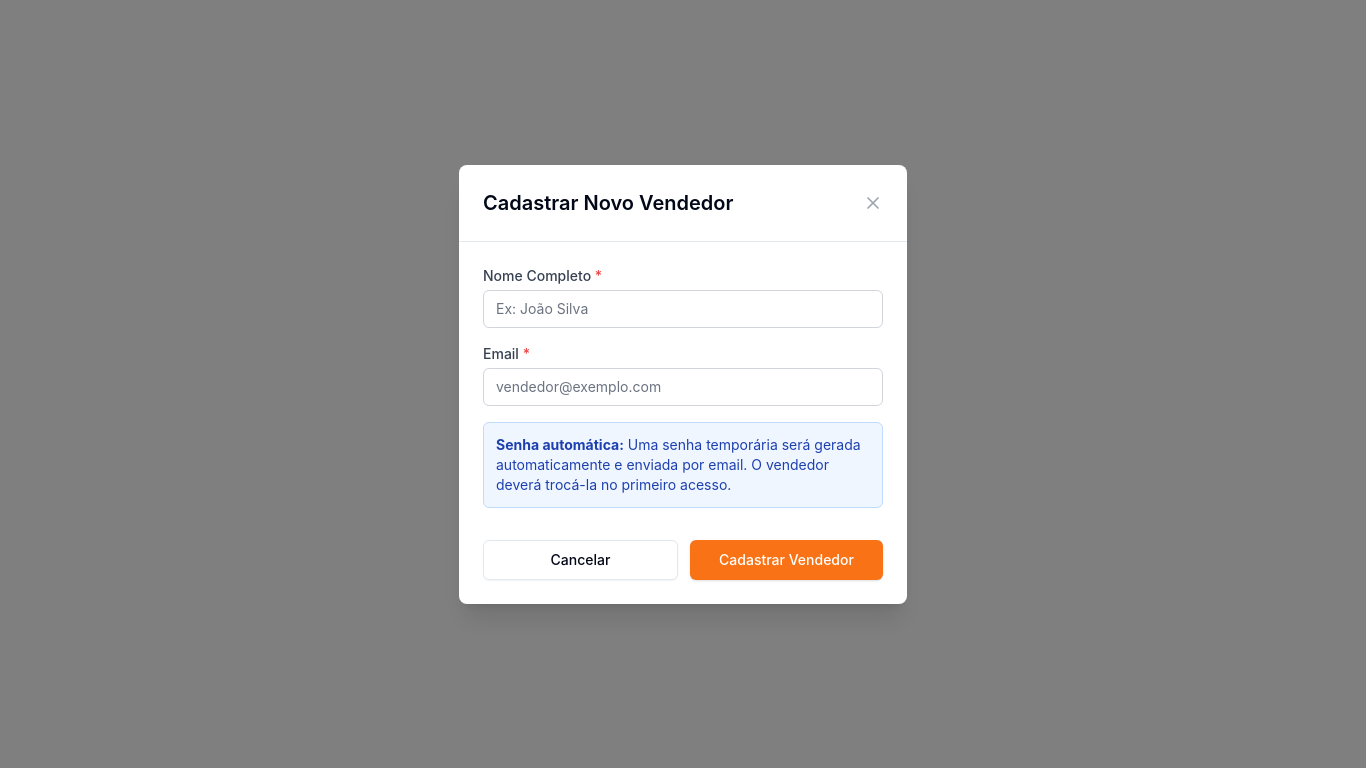
Test case: VendedorForm › deve exibir erro quando email não é fornecido em modo de cadastro
Type "João Silva" into the field labelled "Nome Completo *" at (683, 308), box [483,290,883,328]
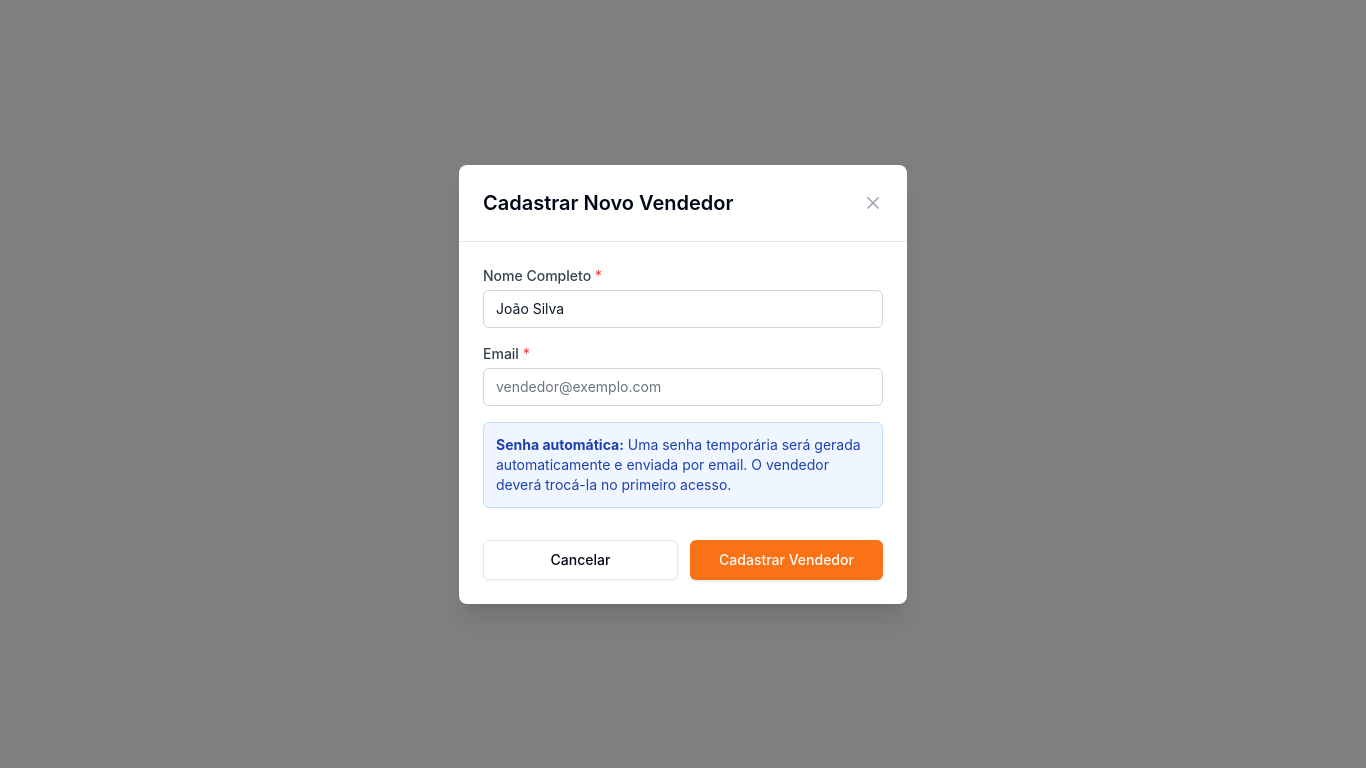
Submit the form named "Cadastrar Vendedor", box [459,242,907,604]
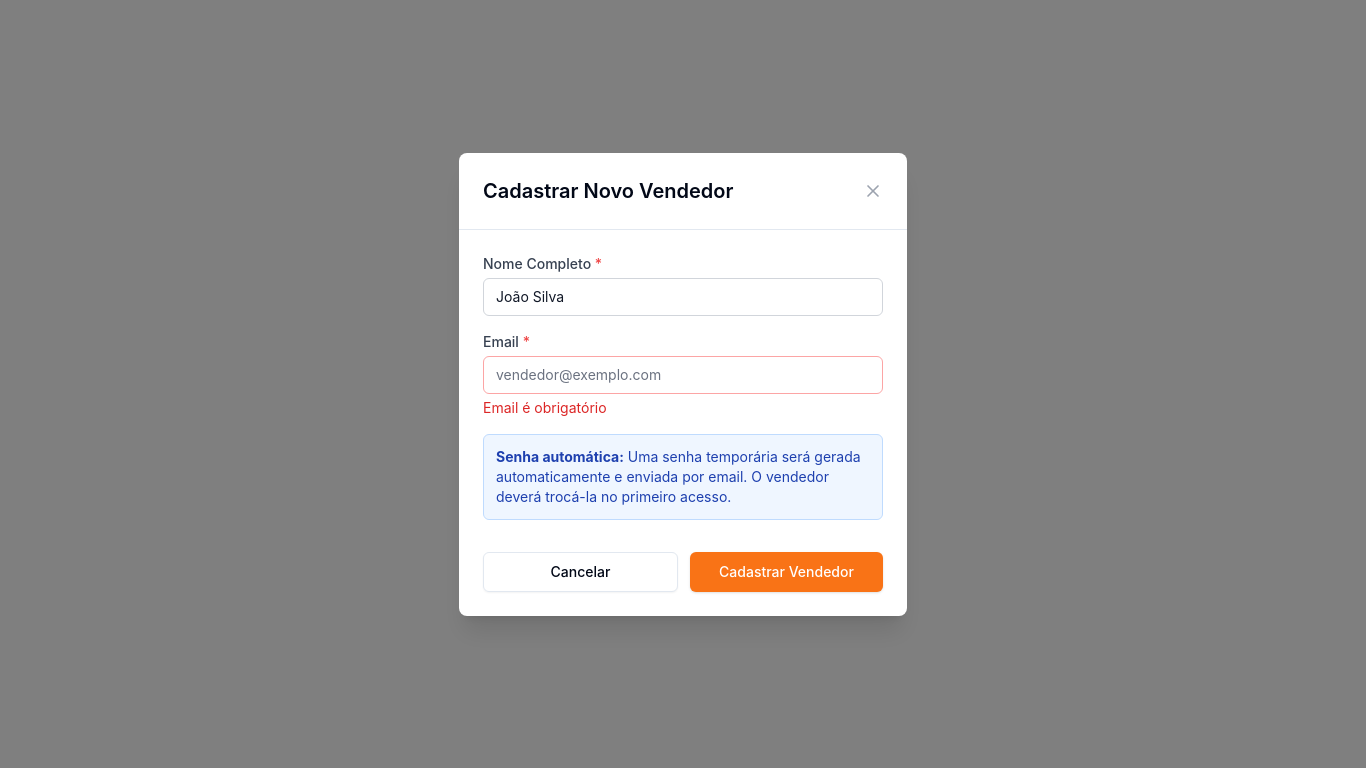
Now the text "Email é obrigatório" is shown, box [483,398,607,416]
